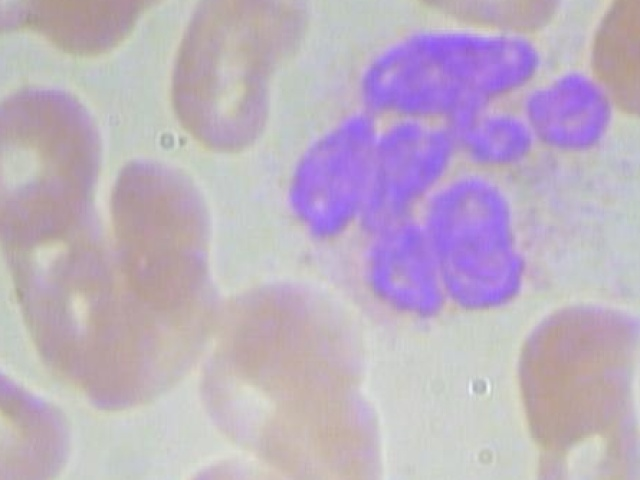RBC: (162, 0, 313, 156), (221, 262, 374, 401), (102, 145, 221, 312), (515, 298, 640, 446), (0, 80, 98, 245), (19, 231, 130, 375), (255, 373, 396, 480), (0, 348, 75, 480), (518, 405, 640, 480), (14, 0, 146, 53), (588, 0, 640, 122), (414, 0, 571, 36), (161, 450, 303, 480)
WBC: (252, 17, 640, 323)
